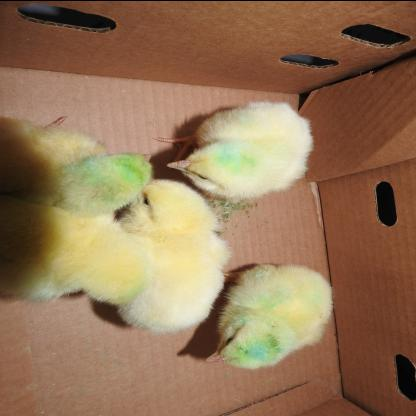Chicken: (164, 96, 326, 202), (0, 207, 148, 321), (128, 178, 228, 334), (206, 264, 350, 368), (0, 112, 148, 210)
